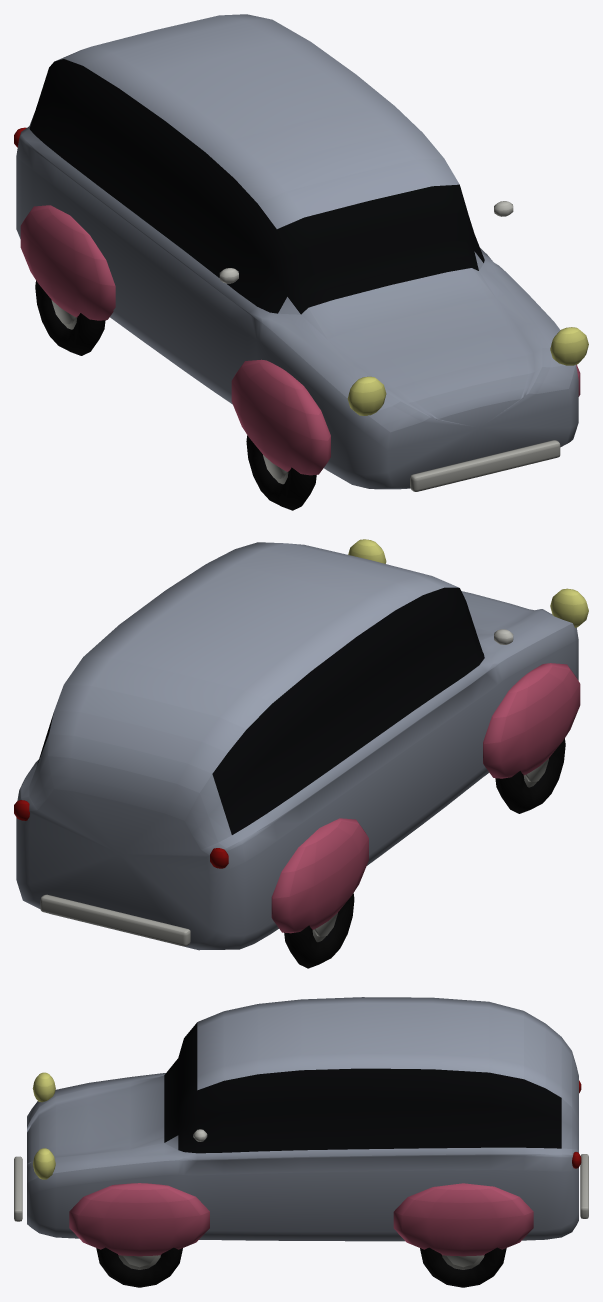
The model's file is car_retro.glb.
3 renders of one model, top to bottom at view 1: azimuth 30°, elevation 25°; view 2: azimuth 150°, elevation 25°; view 3: azimuth 270°, elevation 25°, orthographic. The views are drawn at different scales.
Parts seen in each view (by area): view 1: car_retro; view 2: car_retro; view 3: car_retro.
Boxes of the visible parts, x1=… form: car_retro: x1=14, y1=14, x2=588, y2=510; car_retro: x1=14, y1=539, x2=588, y2=968; car_retro: x1=14, y1=997, x2=588, y2=1287.
Size of the model in its own units: 0.8074 by 0.736 by 1.79.
